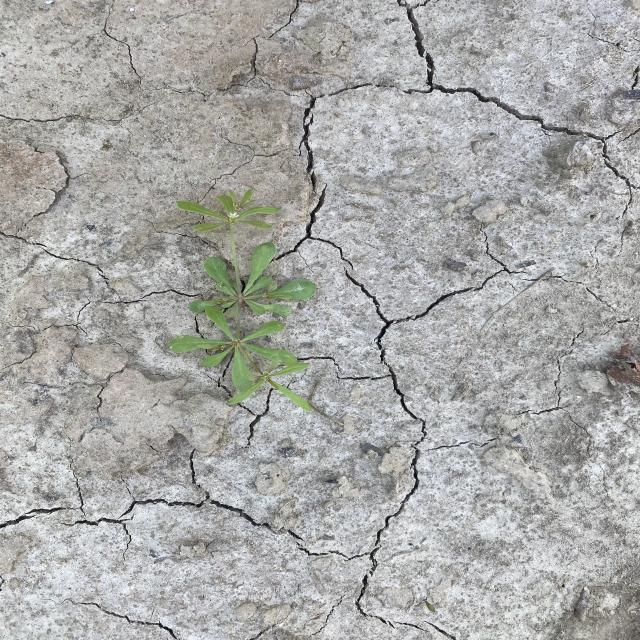Carpetweed: (163, 188, 319, 416)
